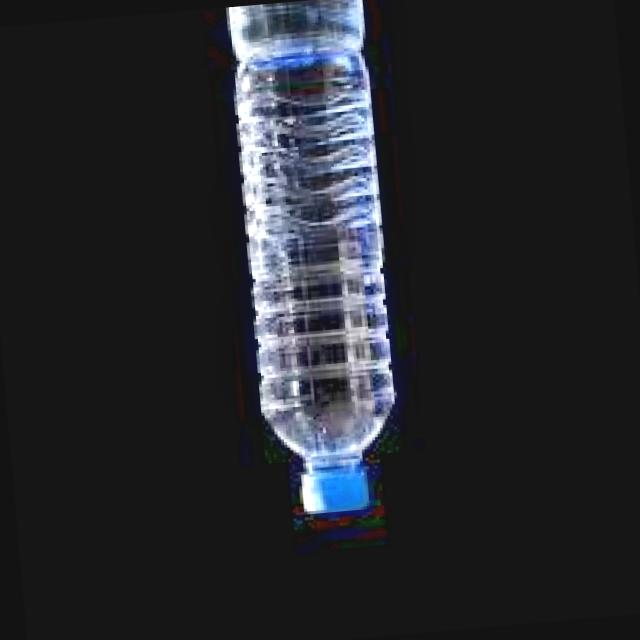plastic bottle: (229, 0, 394, 509)
